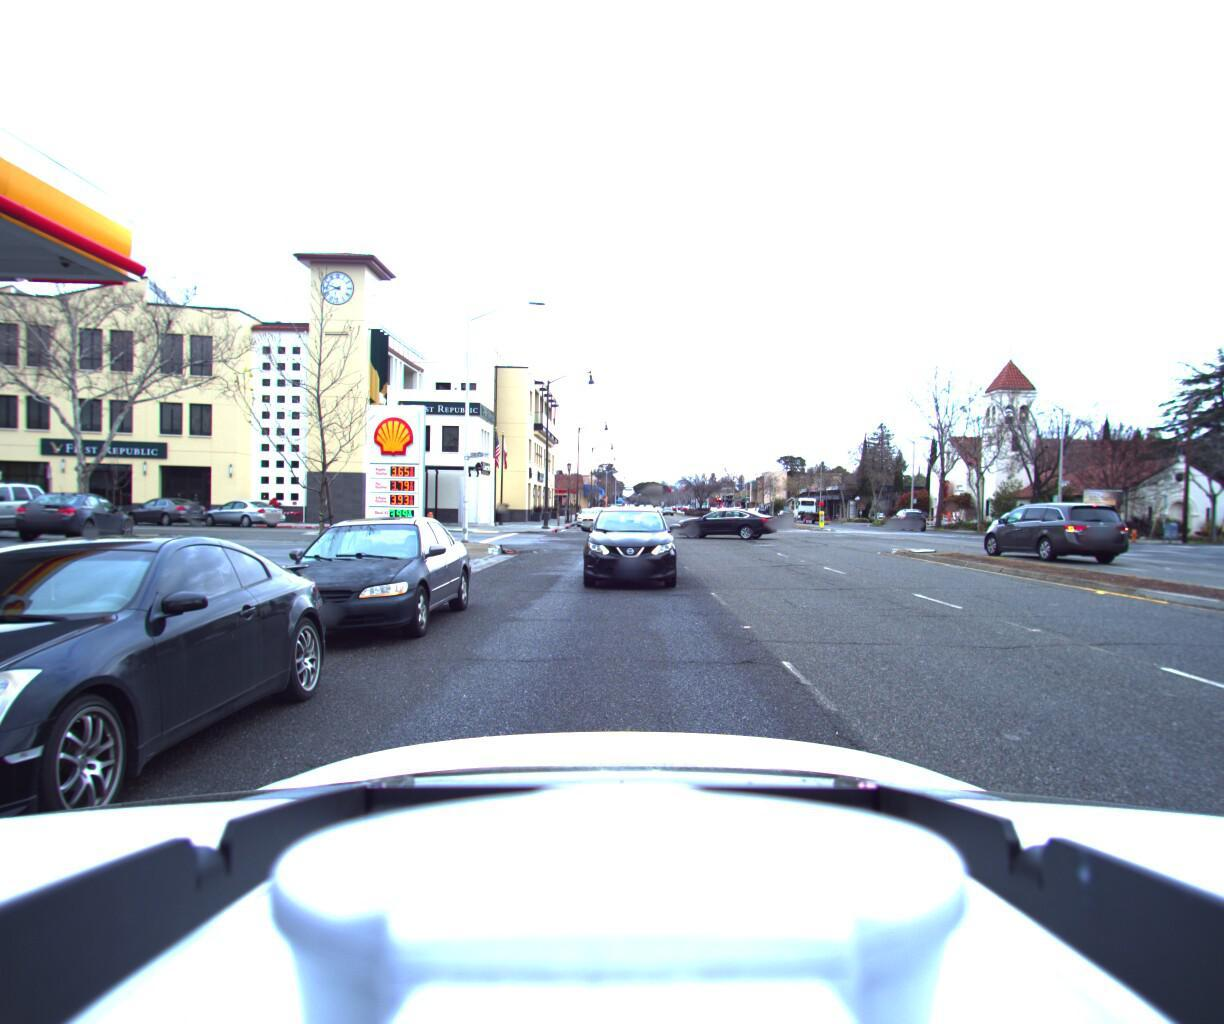car: (0, 520, 346, 931), (233, 511, 478, 661), (967, 495, 1123, 567), (582, 503, 681, 595), (6, 490, 142, 547), (0, 476, 59, 544), (666, 509, 776, 542), (195, 499, 290, 531), (119, 497, 213, 529), (882, 508, 923, 533), (572, 509, 598, 529)
truck: (789, 497, 835, 527)
